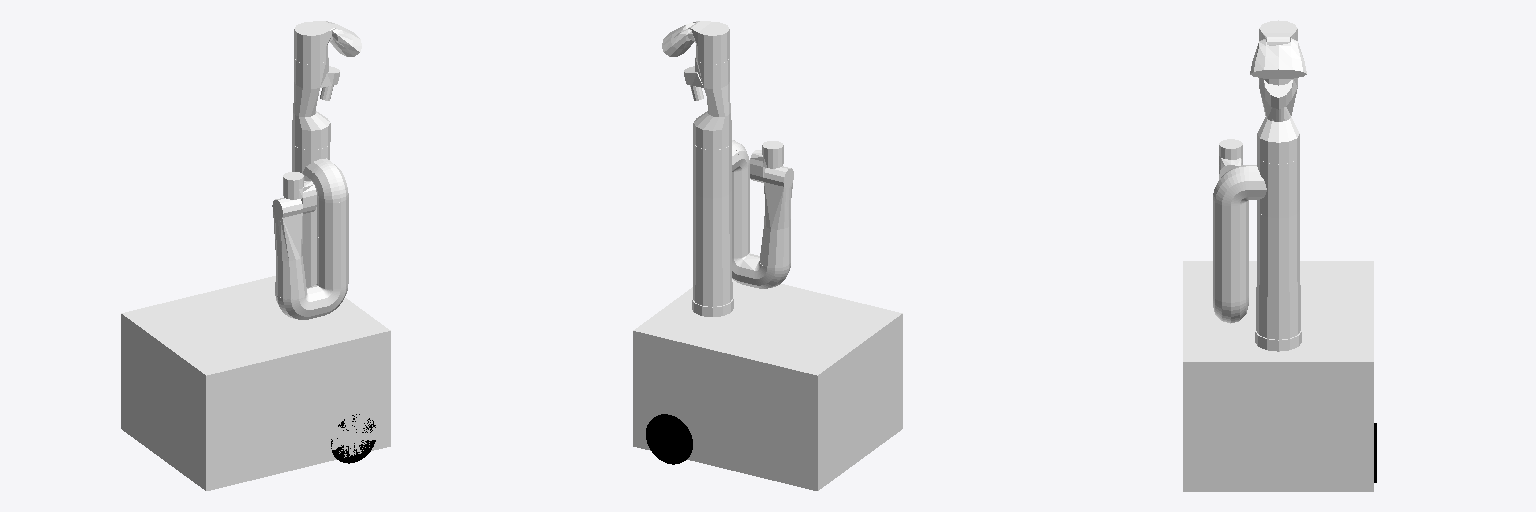
The robot description file, URDF, robot "everyday_robot":
<?xml version="1.0" ?>
<robot name="everyday_robot">
    <link name="mobile_base">
        <inertial>
            <origin rpy="0 0 0" xyz="0 0 0"/>
            <mass value="10.0"/>
            <inertia ixx="1" ixy="0" ixz="0" iyy="1" iyz="0" izz="1"/>
        </inertial>
        <visual>
            <origin rpy="0 0 0" xyz="0 0 0"/>
            <geometry>
                <mesh filename="../meshes/mobile_base.obj"/>
            </geometry>
            <material name="white">
                <color rgba="1 1 1 1"/>
            </material>
        </visual>
        <collision>
            <origin rpy="0 0 0" xyz="0 0 0"/>
            <geometry>
                <mesh filename="../meshes/mobile_base.obj"/>
            </geometry>
        </collision>
    </link>
    <joint name="left_front_wheel_joint" type="continuous">
        <parent link="mobile_base"/>
        <child link="left_front_wheel"/>
        <origin rpy="0 0 0" xyz="0.12 0.155 0.05"/>
        <axis xyz="0 1 0"/>
    </joint>
    <link name="left_front_wheel">
        <inertial>
            <origin rpy="1.570796 0 0" xyz="0 0 0"/>
            <mass value="2"/>
            <inertia ixx="1" ixy="0" ixz="0" iyy="1" iyz="0" izz="1"/>
        </inertial>
        <visual>
            <origin rpy="1.570796 0 0" xyz="0 0 0"/>
            <geometry>
                <cylinder radius="0.05" length="0.02"/>
            </geometry>
            <material name="black">
                <color rgba="0 0 0 1"/>
            </material>
        </visual>
        <collision>
            <origin rpy="1.570796 0 0" xyz="0 0 0"/>
            <geometry>
                <cylinder radius="0.05" length="0.02"/>
            </geometry>
        </collision>
    </link>
    <joint name="right_front_wheel_joint" type="continuous">
        <parent link="mobile_base"/>
        <child link="right_front_wheel"/>
        <origin rpy="0 0 0" xyz="0.12 -0.15 0.05"/>
        <axis xyz="0 1 0"/>
    </joint>
    <link name="right_front_wheel">
        <inertial>
            <origin rpy="1.570796 0 0" xyz="0 0 0"/>
            <mass value="2"/>
            <inertia ixx="1" ixy="0" ixz="0" iyy="1" iyz="0" izz="1"/>
        </inertial>
        <visual>
            <origin rpy="1.570796 0 0" xyz="0 0 0"/>
            <geometry>
                <cylinder radius="0.05" length="0.02"/>
            </geometry>
            <material name="black">
                <color rgba="0 0 0 1"/>
            </material>
        </visual>
        <collision>
            <origin rpy="1.570796 0 0" xyz="0 0 0"/>
            <geometry>
                <cylinder radius="0.05" length="0.02"/>
            </geometry>
        </collision>
    </link>
    <joint name="left_behind_wheel_joint" type="continuous">
        <parent link="mobile_base"/>
        <child link="left_behind_wheel"/>
        <origin rpy="0 0 0" xyz="-0.15 0.12 0.03"/>
        <axis xyz="0 1 0"/>
    </joint>
    <link name="left_behind_wheel">
        <inertial>
            <origin rpy="1.570796 0 0" xyz="0 0 0"/>
            <mass value="10"/>
            <inertia ixx="1" ixy="0" ixz="0" iyy="1" iyz="0" izz="1"/>
        </inertial>
        <visual>
            <origin rpy="1.570796 0 0" xyz="0 0 0"/>
            <geometry>
                <cylinder radius="0.03" length="0.02"/>
            </geometry>
            <material name="black">
                <color rgba="0 0 0 1"/>
            </material>
        </visual>
        <collision>
            <origin rpy="1.570796 0 0" xyz="0 0 0"/>
            <geometry>
                <cylinder radius="0.03" length="0.02"/>
            </geometry>
        </collision>
    </link>
    <joint name="right_behind_wheel_joint" type="continuous">
        <parent link="mobile_base"/>
        <child link="right_behind_wheel"/>
        <origin rpy="0 0 0" xyz="-0.15 -0.12 0.03"/>
        <axis xyz="0 1 0"/>
    </joint>
    <link name="right_behind_wheel">
        <inertial>
            <origin rpy="1.570796 0 0" xyz="0 0 0"/>
            <mass value="10"/>
            <inertia ixx="1" ixy="0" ixz="0" iyy="1" iyz="0" izz="1"/>
        </inertial>
        <visual>
            <origin rpy="1.570796 0 0" xyz="0 0 0"/>
            <geometry>
                <cylinder radius="0.03" length="0.02"/>
            </geometry>
            <material name="black">
                <color rgba="0 0 0 1"/>
            </material>
        </visual>
        <collision>
            <origin rpy="1.570796 0 0" xyz="0 0 0"/>
            <geometry>
                <cylinder radius="0.03" length="0.02"/>
            </geometry>
        </collision>
    </link>
    <joint name="body_base_joint" type="fixed">
        <parent link="mobile_base"/>
        <child link="body_base"/>
        <origin rpy="0 0 0" xyz="0.12 0 0.256"/>
        <axis xyz="0 0 1"/>
    </joint>
    <link name="body_base">
        <inertial>
            <origin rpy="0 0 0" xyz="0 0 0"/>
            <mass value="0.2"/>
            <inertia ixx="1" ixy="0" ixz="0" iyy="1" iyz="0" izz="1"/>
        </inertial>
        <visual>
            <origin rpy="0 0 0" xyz="0 0 0"/>
            <geometry>
                <mesh filename="../meshes/body_base.obj"/>
            </geometry>
            <material name="white">
                <color rgba="1 1 1 1"/>
            </material>
        </visual>
        <collision>
            <origin rpy="0 0 0" xyz="0 0 0"/>
            <geometry>
                <mesh filename="../meshes/body_base.obj"/>
            </geometry>
        </collision>
    </link>
    <joint name="body_link1_joint" type="fixed">
        <parent link="body_base"/>
        <child link="body_link1"/>
        <origin rpy="0 0 0" xyz="0 0 0.129"/>
        <axis xyz="0 0 1"/>
    </joint>
    <link name="body_link1">
        <inertial>
            <origin rpy="0 0 0" xyz="0 0 0"/>
            <mass value="3"/>
            <inertia ixx="1" ixy="0" ixz="0" iyy="1" iyz="0" izz="1"/>
        </inertial>
        <visual>
            <origin rpy="0 0 0" xyz="0 0 0"/>
            <geometry>
                <mesh filename="../meshes/body_link1.obj"/>
            </geometry>
            <material name="white">
                <color rgba="1 1 1 1"/>
            </material>
        </visual>
        <collision>
            <origin rpy="0 0 0" xyz="0 0 0"/>
            <geometry>
                <mesh filename="../meshes/body_link1.obj"/>
            </geometry>
        </collision>
    </link>
    <joint name="arm_link1_joint" type="revolute">
        <parent link="body_link1"/>
        <child link="arm_link1"/>
        <origin rpy="0 0 0" xyz="0 0 0.165"/>
        <axis xyz="0 0 1"/>
        <limit effort="150.0" lower="-6.28318530718" upper="6.28318530718" velocity="3.15"/>
    </joint>
    <link name="arm_link1">
        <inertial>
            <origin rpy="0 0 0" xyz="0 -0.0208 0"/>
            <mass value="3"/>
            <inertia ixx="1" ixy="0" ixz="0" iyy="1" iyz="0" izz="1"/>
        </inertial>
        <visual>
            <origin rpy="0 0 0" xyz="0 -0.0208 0"/>
            <geometry>
                <mesh filename="../meshes/arm_link1.obj"/>
            </geometry>
            <material name="white">
                <color rgba="1 1 1 1"/>
            </material>
        </visual>
        <collision>
            <origin rpy="0 0 0" xyz="0 -0.0208 0"/>
            <geometry>
                <mesh filename="../meshes/arm_link1.obj"/>
            </geometry>
        </collision>
    </link>
    <joint name="arm_link2_joint" type="revolute">
        <parent link="arm_link1"/>
        <child link="arm_link2"/>
        <origin rpy="0 0 0" xyz="0 -0.0692 0"/>
        <axis xyz="0 1 0"/>
        <limit effort="150.0" lower="-6.28318530718" upper="6.28318530718" velocity="3.15"/>
    </joint>
    <link name="arm_link2">
        <inertial>
            <origin rpy="0 0 0" xyz="0 0 -0.021"/>
            <mass value="3"/>
            <inertia ixx="1" ixy="0" ixz="0" iyy="1" iyz="0" izz="1"/>
        </inertial>
        <visual>
            <origin rpy="0 0 0" xyz="0 0 -0.021"/>
            <geometry>
                <mesh filename="../meshes/arm_link2.obj"/>
            </geometry>
            <material name="white">
                <color rgba="1 1 1 1"/>
            </material>
        </visual>
        <collision>
            <origin rpy="0 0 0" xyz="0 0 -0.021"/>
            <geometry>
                <mesh filename="../meshes/arm_link2.obj"/>
            </geometry>
        </collision>
    </link>
    <joint name="arm_link3_joint" type="revolute">
        <parent link="arm_link2"/>
        <child link="arm_link3"/>
        <origin rpy="0 0 0" xyz="0 -0.0108 -0.218"/>
        <axis xyz="0 0 1"/>
        <limit effort="150.0" lower="-6.28318530718" upper="6.28318530718" velocity="3.15"/>
    </joint>
    <link name="arm_link3">
        <inertial>
            <origin rpy="0 0 0" xyz="-0.011 0 0"/>
            <mass value="3"/>
            <inertia ixx="1" ixy="0" ixz="0" iyy="1" iyz="0" izz="1"/>
        </inertial>
        <visual>
            <origin rpy="0 0 0" xyz="-0.011 0 0"/>
            <geometry>
                <mesh filename="../meshes/arm_link3.obj"/>
            </geometry>
            <material name="white">
                <color rgba="1 1 1 1"/>
            </material>
        </visual>
        <collision>
            <origin rpy="0 0 0" xyz="-0.011 0 0"/>
            <geometry>
                <mesh filename="../meshes/arm_link3.obj"/>
            </geometry>
        </collision>
    </link>
    <joint name="arm_link4_joint" type="revolute">
        <parent link="arm_link3"/>
        <child link="arm_link4"/>
        <origin rpy="0 0 0" xyz="-0.075 0 -0.021"/>
        <axis xyz="1 0 0"/>
        <limit effort="150.0" lower="-6.28318530718" upper="6.28318530718" velocity="3.15"/>
    </joint>
    <link name="arm_link4">
        <inertial>
            <origin rpy="0 0 0" xyz="0 0 0.013"/>
            <mass value="1"/>
            <inertia ixx="1" ixy="0" ixz="0" iyy="1" iyz="0" izz="1"/>
        </inertial>
        <visual>
            <origin rpy="0 0 0" xyz="0 0 0.013"/>
            <geometry>
                <mesh filename="../meshes/arm_link4.obj"/>
            </geometry>
            <material name="white">
                <color rgba="1 1 1 1"/>
            </material>
        </visual>
        <collision>
            <origin rpy="0 0 0" xyz="0 0 0.013"/>
            <geometry>
                <mesh filename="../meshes/arm_link4.obj"/>
            </geometry>
        </collision>
    </link>
    <joint name="arm_link5_joint" type="revolute">
        <parent link="arm_link4"/>
        <child link="arm_link5"/>
        <origin rpy="0 0 0" xyz="-0.0148 0 0.14"/>
        <axis xyz="0 0 1"/>
        <limit effort="150.0" lower="-6.28318530718" upper="6.28318530718" velocity="3.15"/>
    </joint>
    <link name="arm_link5">
        <inertial>
            <origin rpy="0 0 0" xyz="-0.0052 0 0"/>
            <mass value="1"/>
            <inertia ixx="1" ixy="0" ixz="0" iyy="1" iyz="0" izz="1"/>
        </inertial>
        <visual>
            <origin rpy="0 0 0" xyz="-0.0052 0 0"/>
            <geometry>
                <mesh filename="../meshes/arm_link5.obj"/>
            </geometry>
            <material name="white">
                <color rgba="1 1 1 1"/>
            </material>
        </visual>
        <collision>
            <origin rpy="0 0 0" xyz="-0.0052 0 0"/>
            <geometry>
                <mesh filename="../meshes/arm_link5.obj"/>
            </geometry>
        </collision>
    </link>
    <joint name="arm_link6_joint" type="revolute">
        <parent link="arm_link5"/>
        <child link="arm_link6"/>
        <origin rpy="0 0 0" xyz="0.0145 0 0.0693"/>
        <axis xyz="1 0 0"/>
        <limit effort="150.0" lower="-6.28318530718" upper="6.28318530718" velocity="3.15"/>
    </joint>
    <link name="arm_link6">
        <inertial>
            <origin rpy="0 0 0" xyz="0 0 0.03"/>
            <mass value="1"/>
            <inertia ixx="1" ixy="0" ixz="0" iyy="1" iyz="0" izz="1"/>
        </inertial>
        <visual>
            <origin rpy="0 0 0" xyz="0 0 0.03"/>
            <geometry>
                <mesh filename="../meshes/arm_link6.obj"/>
            </geometry>
            <material name="white">
                <color rgba="1 1 1 1"/>
            </material>
        </visual>
        <collision>
            <origin rpy="0 0 0" xyz="0 0 0.03"/>
            <geometry>
                <mesh filename="../meshes/arm_link6.obj"/>
            </geometry>
        </collision>
    </link>
    <joint name="body_link2_joint" type="fixed">
        <parent link="body_link1"/>
        <child link="body_link2"/>
        <origin rpy="0 0 0" xyz="0 0 0.307"/>
        <axis xyz="0 0 1"/>
    </joint>
    <link name="body_link2">
        <inertial>
            <origin rpy="0 0 0" xyz="0.006 0 0"/>
            <mass value="3"/>
            <inertia ixx="1" ixy="0" ixz="0" iyy="1" iyz="0" izz="1"/>
        </inertial>
        <visual>
            <origin rpy="0 0 0" xyz="0.006 0 0"/>
            <geometry>
                <mesh filename="../meshes/body_link2.obj"/>
            </geometry>
            <material name="white">
                <color rgba="1 1 1 1"/>
            </material>
        </visual>
        <collision>
            <origin rpy="0 0 0" xyz="0.006 0 0"/>
            <geometry>
                <mesh filename="../meshes/body_link2.obj"/>
            </geometry>
        </collision>
    </link>
    <joint name="head_link1_joint" type="revolute">
        <parent link="body_link2"/>
        <child link="head_link1"/>
        <origin rpy="0 0 0" xyz="0 0 0.117"/>
        <axis xyz="0 0 1"/>
        <limit effort="150.0" lower="-6.28318530718" upper="6.28318530718" velocity="3.15"/>
    </joint>
    <link name="head_link1">
        <inertial>
            <origin rpy="0 0 0" xyz="0.01 0 0"/>
            <mass value="0.7"/>
            <inertia ixx="1" ixy="0" ixz="0" iyy="1" iyz="0" izz="1"/>
        </inertial>
        <visual>
            <origin rpy="0 0 0" xyz="0.01 0 0"/>
            <geometry>
                <mesh filename="../meshes/head_link1.obj"/>
            </geometry>
            <material name="white">
                <color rgba="1 1 1 1"/>
            </material>
        </visual>
        <collision>
            <origin rpy="0 0 0" xyz="0.01 0 0"/>
            <geometry>
                <mesh filename="../meshes/head_link1.obj"/>
            </geometry>
        </collision>
    </link>
    <joint name="head_link2_joint" type="revolute">
        <parent link="head_link1"/>
        <child link="head_link2"/>
        <origin rpy="0 0 0" xyz="0.04 0 0.016"/>
        <axis xyz="0 1 0"/>
        <limit effort="50.0" lower="0.7854" upper="0.7854" velocity="0.7854"/>
    </joint>
    <link name="head_link2">
        <inertial>
            <origin rpy="0 0 0" xyz="0.025 0 0"/>
            <mass value="0.3"/>
            <inertia ixx="1" ixy="0" ixz="0" iyy="1" iyz="0" izz="1"/>
        </inertial>
        <visual>
            <origin rpy="0 0 0" xyz="0.025 0 0"/>
            <geometry>
                <mesh filename="../meshes/head_link2.obj"/>
            </geometry>
            <material name="white">
                <color rgba="1 1 1 1"/>
            </material>
        </visual>
        <collision>
            <origin rpy="0 0 0" xyz="0.025 0 0"/>
            <geometry>
                <mesh filename="../meshes/head_link2.obj"/>
            </geometry>
        </collision>
    </link>
    <joint name="lidar_joint" type="revolute">
        <parent link="body_link2"/>
        <child link="lidar"/>
        <origin rpy="0 0.2618 0" xyz="0.035 0 0.01"/>
        <axis xyz="0 0 1"/>
        <limit effort="150.0" lower="-6.28318530718" upper="6.28318530718" velocity="3.15"/>
    </joint>
    <link name="lidar">
        <inertial>
            <origin rpy="0 0 0" xyz="0 0 0"/>
            <mass value="0.1"/>
            <inertia ixx="1" ixy="0" ixz="0" iyy="1" iyz="0" izz="1"/>
        </inertial>
        <visual>
            <origin rpy="0 0 0" xyz="0 0 0"/>
            <geometry>
                <mesh filename="../meshes/lidar.obj"/>
            </geometry>
            <material name="white">
                <color rgba="1 1 1 1"/>
            </material>
        </visual>
        <collision>
            <origin rpy="0 0 0" xyz="0 0 0"/>
            <geometry>
                <mesh filename="../meshes/lidar.obj"/>
            </geometry>
        </collision>
    </link>
</robot>

--- What the picture shows (computed from the rendered views, not written in the file) ---
Views: 3 orthographic renders of the robot side by side, from view 1: azimuth 30°, elevation 25°; view 2: azimuth 150°, elevation 25°; view 3: azimuth 270°, elevation 25°.
Robot: everyday_robot — 17 links, 16 joints (9 revolute, 4 continuous, 3 fixed); root link mobile_base; default pose: joints at zero except 1 at the middle of their limits (head_link2_joint = 0.7854).
Visible links, largest first — view 1: mobile_base, body_link2, arm_link5, arm_link2, arm_link3, head_link1, arm_link4, body_link1, arm_link6, arm_link1, head_link2, right_front_wheel; view 2: mobile_base, body_link1, body_link2, arm_link5, arm_link1, left_front_wheel, head_link1, arm_link4, arm_link3, arm_link2, arm_link6, head_link2; view 3: mobile_base, body_link1, arm_link2, body_link2, arm_link1, arm_link3, head_link2, head_link1, arm_link6, body_base.
Boxes of the visible links, x1,y1,x2,y2 form: mobile_base: (121, 276, 390, 490); body_link2: (292, 57, 339, 149); arm_link5: (272, 198, 306, 299); arm_link2: (311, 162, 348, 251); arm_link3: (316, 236, 348, 315); head_link1: (294, 21, 335, 64); arm_link4: (275, 285, 326, 319); body_link1: (302, 207, 316, 287); arm_link6: (283, 172, 316, 213); arm_link1: (292, 143, 330, 180); head_link2: (326, 21, 361, 56); right_front_wheel: (331, 414, 375, 463); mobile_base: (633, 279, 902, 490); body_link1: (693, 191, 732, 306); body_link2: (684, 57, 731, 149); arm_link5: (759, 166, 793, 267); arm_link1: (693, 142, 739, 198); left_front_wheel: (646, 414, 692, 464); head_link1: (688, 21, 729, 64); arm_link4: (740, 254, 790, 288); arm_link3: (732, 204, 750, 284); arm_link2: (732, 140, 749, 209); arm_link6: (750, 141, 783, 182); head_link2: (662, 21, 697, 56); mobile_base: (1183, 261, 1373, 491); body_link1: (1256, 210, 1300, 339); arm_link2: (1213, 165, 1248, 259); body_link2: (1257, 78, 1299, 163); arm_link1: (1249, 156, 1299, 218); arm_link3: (1213, 242, 1248, 323); head_link2: (1250, 38, 1306, 78); head_link1: (1259, 20, 1297, 44); arm_link6: (1219, 139, 1242, 179); body_base: (1255, 330, 1301, 351).
Size in the robot's own frame: 0.4152 by 0.325 by 0.8359 metres.
13 mesh visuals loaded from 13 distinct referenced files (13 OBJ).